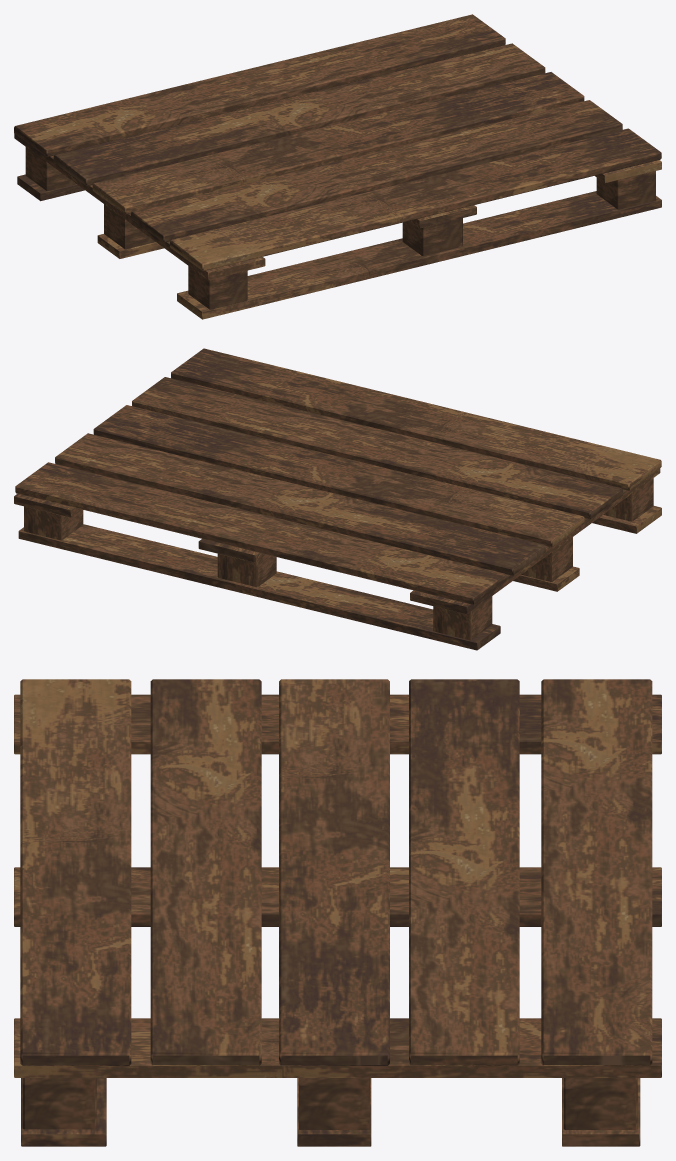
The model's file is SM_PalletWooden.fbx.
3 renders of one model, top to bottom at view 1: azimuth 30°, elevation 25°; view 2: azimuth 150°, elevation 25°; view 3: azimuth 270°, elevation 25°, orthographic. The views are drawn at different scales.
Visible parts, largest first — view 1: PalletWooden; view 2: PalletWooden; view 3: PalletWooden.
Boxes of the visible parts, box(x1,y1,x2,y2) form: PalletWooden: box(14, 14, 661, 319); PalletWooden: box(14, 348, 661, 650); PalletWooden: box(14, 679, 661, 1146).
Size of the model in its own units: 120 by 13.94 by 87.61.
1 material, 1 textured.
